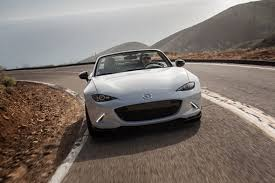front_car: (77, 47, 206, 139)
